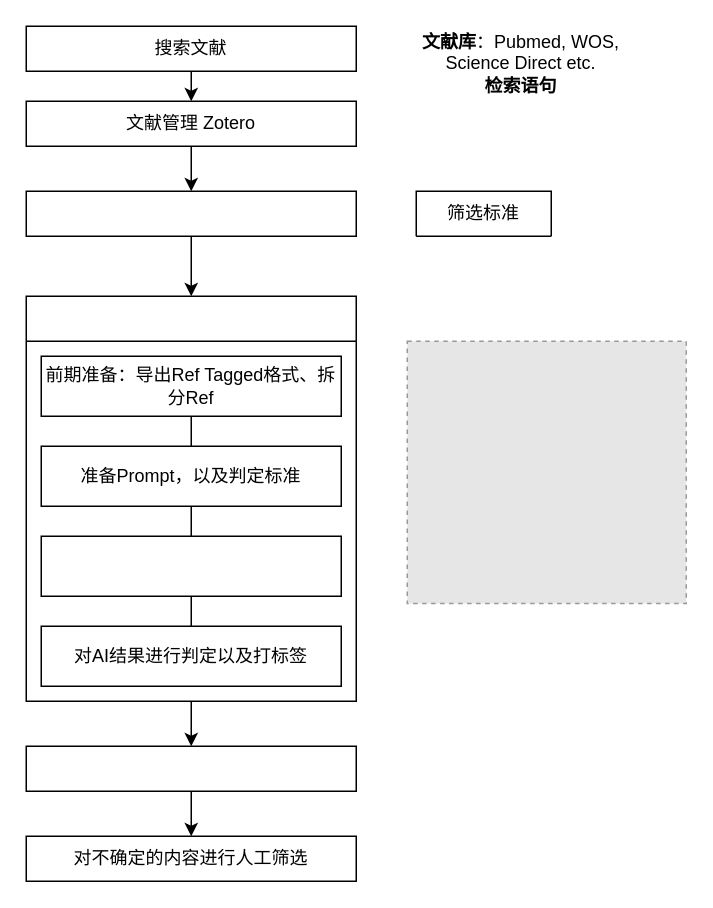
This 713x908 diagram has some shape labels left out. Grey dashed boxes stand in for pictures. Each missing label, with the box of its shape:
AI自动判定（Kimi/GPT-4）: (40, 535, 341, 596)
初步筛选: (25, 190, 356, 236)
执行AI自动筛选: (25, 295, 356, 701)
重新导入打好标签的文献到Zotero: (25, 745, 356, 791)
